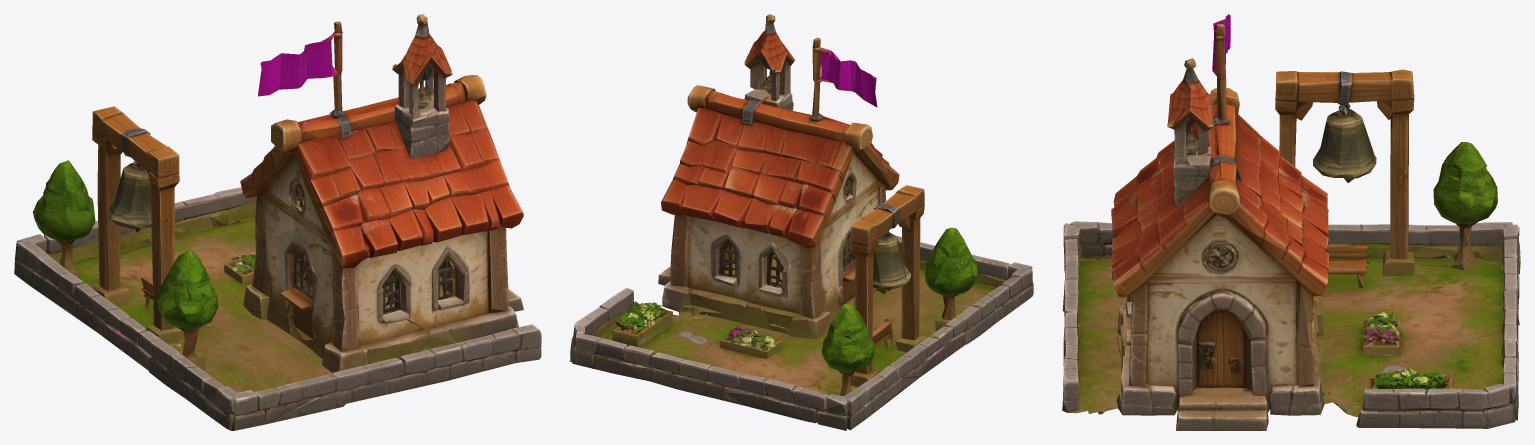
Rendered from chapel.glb.
3 renders of one model, left to right at view 1: azimuth 30°, elevation 25°; view 2: azimuth 150°, elevation 25°; view 3: azimuth 270°, elevation 25°, orthographic. The views are drawn at different scales.
Parts seen in each view (by area): view 1: Mesh_0; view 2: Mesh_0; view 3: Mesh_0.
Boxes of the visible parts, x1,y1,x2,y2 form: Mesh_0: [14, 14, 541, 430]; Mesh_0: [570, 14, 1033, 430]; Mesh_0: [1062, 14, 1520, 430].
Bounding box in the file's own units: 1.72 × 1.48 × 1.9.
Materials: 1 (1 with a texture image).
